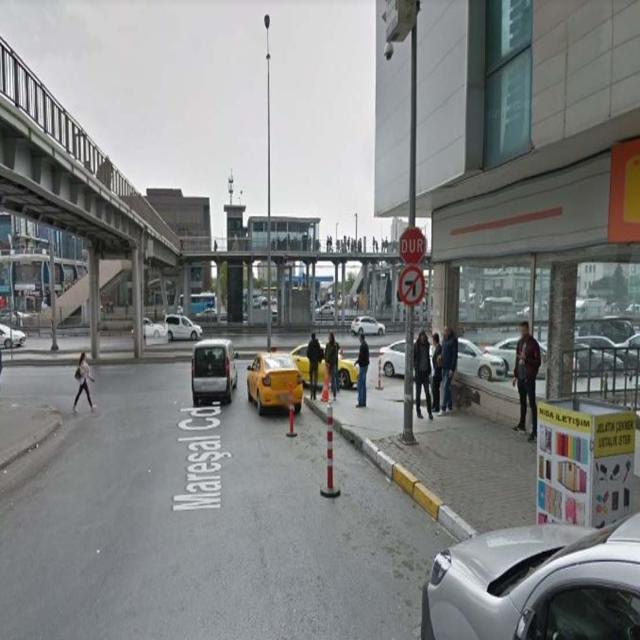dur: (398, 226, 428, 266)
soladonulmez: (399, 267, 425, 305)
